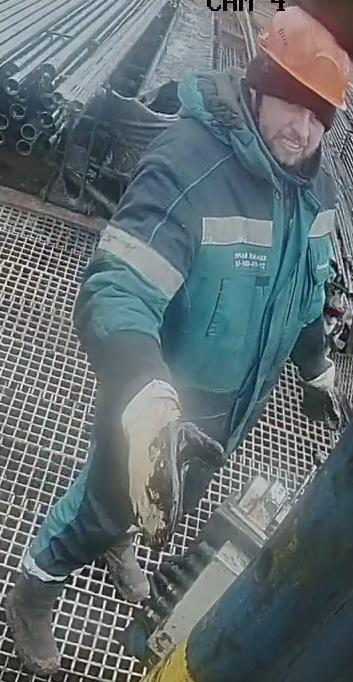gloves: (109, 372, 226, 535), (301, 360, 344, 432)
helmet: (254, 2, 351, 118)
vest: (122, 119, 340, 387)
